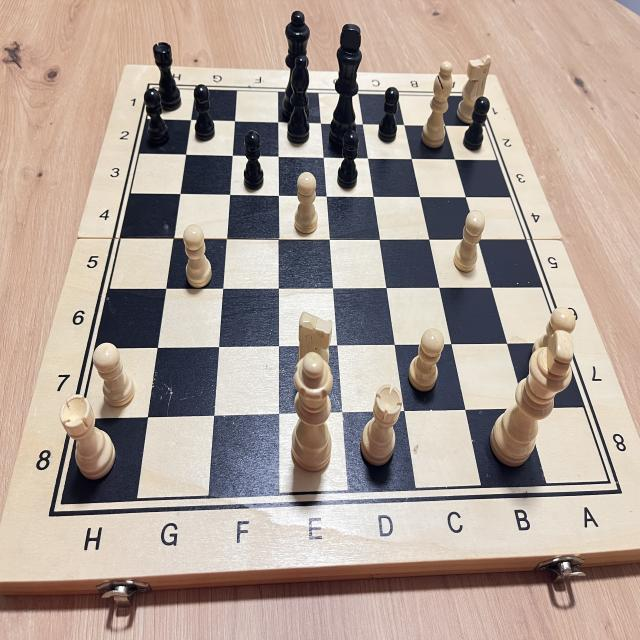black-bishop: (278, 51, 318, 148)
black-king: (324, 14, 365, 153)
black-pawn: (139, 84, 177, 153), (238, 126, 272, 196), (188, 80, 220, 150), (332, 124, 364, 193), (374, 84, 406, 148), (461, 94, 494, 156)
black-queen: (267, 7, 319, 124)
black-rook: (146, 32, 186, 116)
white-bishop: (419, 54, 456, 152)
white-king: (486, 326, 584, 476)
white-knight: (290, 308, 340, 400), (455, 50, 499, 132)
white-pawn: (529, 298, 581, 382), (89, 333, 142, 413), (405, 315, 448, 404), (179, 220, 218, 296), (286, 166, 324, 244), (451, 203, 489, 280)
white-queen: (282, 345, 335, 484)
white-rook: (58, 393, 124, 488), (358, 381, 404, 475)
